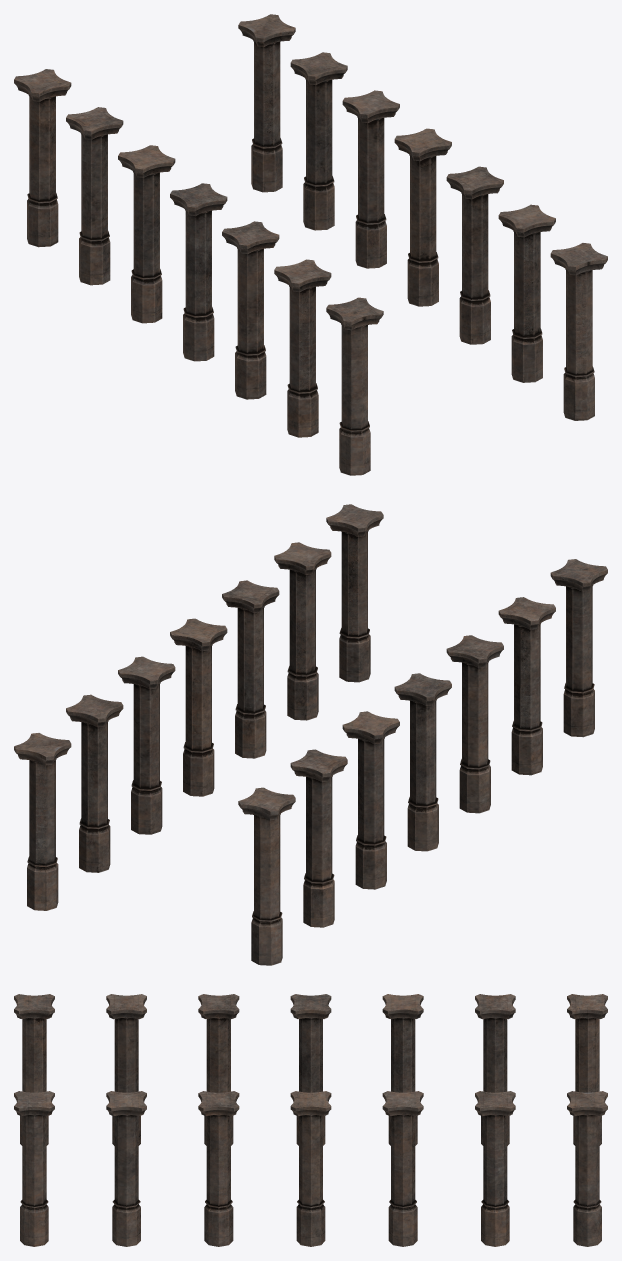
The model's file is pillar.obj.
3 views of the same model, one above another, from view 1: azimuth 30°, elevation 25°; view 2: azimuth 150°, elevation 25°; view 3: azimuth 270°, elevation 25° (orthographic). The views are drawn at different scales.
Parts seen in each view (by area): view 1: Cube.271; view 2: Cube.271; view 3: Cube.271.
Boxes of the visible parts, x1,y1,x2,y2 form: Cube.271: (14,14,607,475); Cube.271: (14,504,607,965); Cube.271: (14,994,607,1246).
Size of the model in its own units: 14.53 by 8.38 by 31.92.
Materials: 4 (4 with a texture image).
